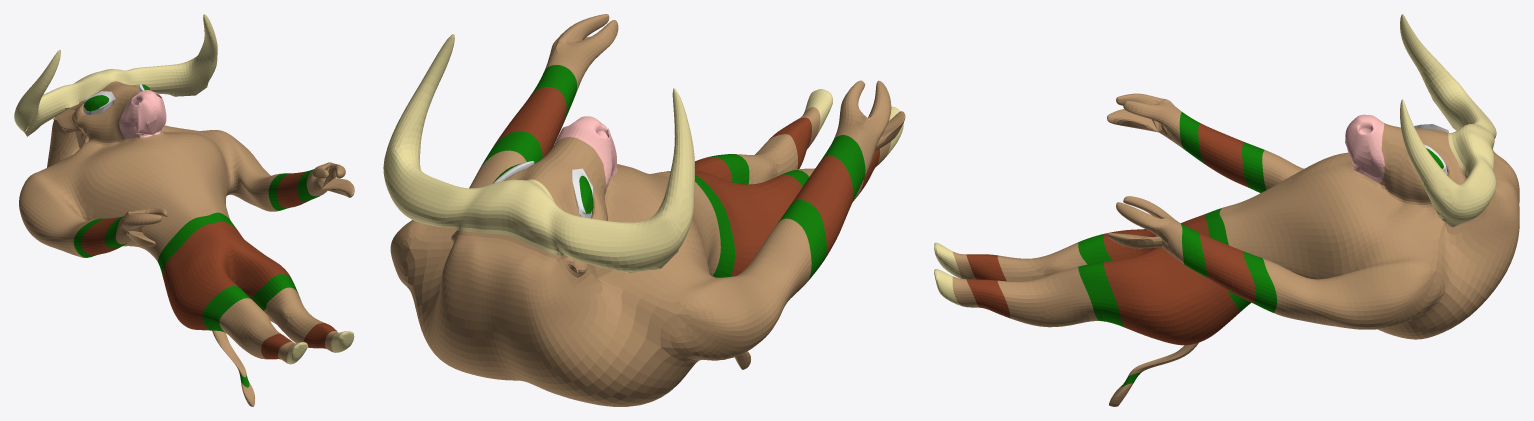
Rendered from Minotaur-cadere_ucidere.fbx.
3 views of the same model, side by side, from view 1: azimuth 30°, elevation 25°; view 2: azimuth 150°, elevation 25°; view 3: azimuth 270°, elevation 25° (orthographic). The views are drawn at different scales.
Visible parts, largest first — view 1: Plane; view 2: Plane; view 3: Plane.
Boxes of the visible parts, left/top/right/bottom form: Plane: left=14, top=14, right=354, bottom=406; Plane: left=383, top=14, right=905, bottom=406; Plane: left=934, top=14, right=1519, bottom=406.
Bounding box in the file's own units: 160 × 192 × 291.
